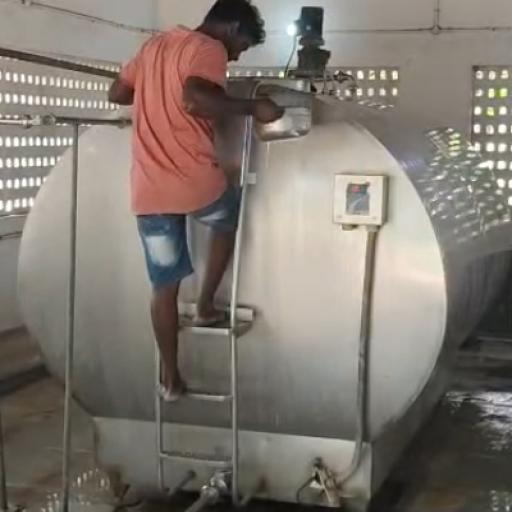silo: (20, 72, 511, 505)
vessel: (253, 105, 312, 142)
